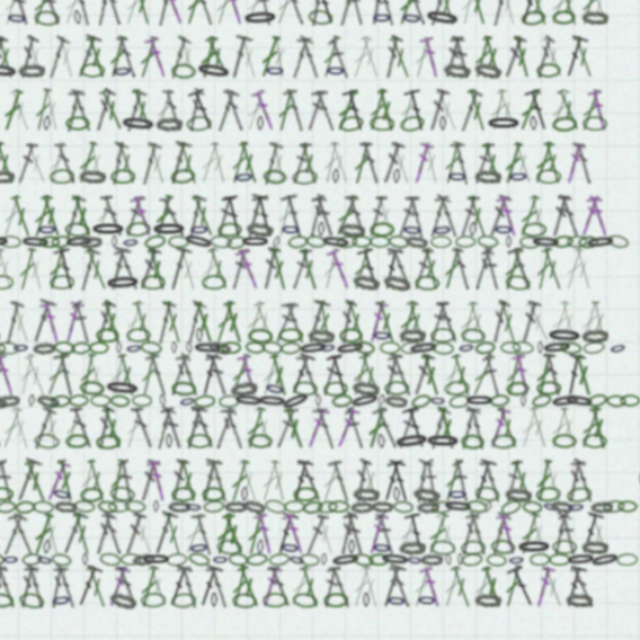chain: (418, 52, 451, 70), (215, 99, 248, 117), (290, 391, 319, 411), (391, 428, 424, 445), (26, 100, 59, 116), (148, 147, 181, 163), (134, 382, 167, 397), (204, 251, 232, 268), (352, 392, 380, 409), (381, 287, 407, 305), (17, 428, 43, 446), (138, 569, 164, 587), (257, 54, 289, 68), (135, 289, 167, 303), (527, 336, 559, 350), (565, 534, 593, 550), (462, 99, 488, 116), (354, 287, 380, 304), (473, 148, 505, 161), (122, 242, 154, 255), (176, 242, 208, 255), (419, 430, 451, 443), (500, 524, 532, 537), (342, 146, 366, 163), (396, 146, 420, 163), (246, 382, 271, 398), (408, 476, 433, 492), (326, 253, 354, 267), (561, 253, 589, 267), (306, 347, 334, 361), (339, 347, 367, 361), (404, 347, 432, 361), (530, 394, 558, 408), (542, 394, 570, 408), (335, 535, 363, 549), (544, 476, 568, 492), (58, 570, 82, 586), (485, 486, 506, 504), (435, 100, 460, 115), (260, 241, 285, 256), (354, 382, 379, 397), (504, 53, 527, 69), (490, 288, 513, 304), (301, 570, 324, 586), (27, 393, 49, 409), (99, 253, 126, 266), (523, 347, 550, 360), (249, 394, 276, 407), (435, 488, 462, 501), (379, 535, 406, 548), (544, 535, 571, 548), (315, 53, 338, 68), (207, 147, 230, 162), (193, 194, 216, 209), (153, 241, 176, 256), (112, 382, 135, 397), (436, 382, 459, 397), (72, 429, 95, 444), (139, 476, 162, 491), (463, 476, 486, 491), (517, 476, 540, 491), (234, 523, 257, 538), (477, 523, 500, 538), (87, 475, 107, 492), (180, 148, 204, 162), (342, 242, 366, 256), (18, 336, 42, 350), (315, 336, 339, 350), (558, 336, 582, 350), (490, 477, 514, 491), (396, 524, 420, 538), (226, 346, 248, 361), (60, 254, 87, 266), (513, 254, 540, 266), (213, 348, 240, 360), (270, 395, 297, 407), (72, 54, 95, 68), (301, 195, 324, 209), (99, 242, 122, 256), (276, 382, 296, 398), (406, 393, 426, 409), (169, 252, 190, 267), (580, 252, 601, 267), (257, 487, 278, 502), (276, 487, 297, 502), (208, 534, 229, 549), (558, 54, 582, 67), (58, 101, 82, 114), (31, 195, 55, 208), (112, 195, 136, 208), (463, 195, 487, 208), (396, 336, 420, 349), (355, 477, 379, 490), (558, 524, 582, 537), (463, 571, 487, 584), (544, 571, 568, 584), (194, 101, 216, 115), (532, 148, 554, 162), (559, 148, 581, 162), (275, 195, 297, 209), (235, 242, 257, 256), (505, 242, 527, 256), (410, 289, 432, 303), (262, 336, 284, 350), (451, 336, 473, 350), (194, 383, 216, 397), (302, 383, 324, 397), (329, 383, 351, 397), (127, 430, 149, 444), (478, 430, 500, 444), (19, 524, 41, 538), (424, 524, 446, 538), (451, 524, 473, 538), (32, 571, 54, 585), (194, 571, 216, 585), (248, 571, 270, 585), (513, 393, 533, 408), (562, 393, 582, 408), (24, 254, 51, 265), (255, 254, 282, 265), (454, 395, 481, 406), (167, 536, 194, 547), (112, 253, 133, 267), (491, 383, 512, 397), (74, 394, 95, 408), (451, 430, 472, 444), (113, 477, 134, 491), (113, 101, 135, 114), (518, 101, 540, 114), (100, 148, 122, 161), (370, 148, 392, 161), (86, 195, 108, 208), (140, 195, 162, 208), (518, 195, 540, 208), (370, 242, 392, 255), (32, 289, 54, 302), (86, 289, 108, 302), (167, 289, 189, 302), (221, 289, 243, 302), (154, 336, 176, 349), (289, 336, 311, 349), (424, 336, 446, 349), (383, 383, 405, 396), (518, 383, 540, 396), (208, 430, 230, 443), (262, 430, 284, 443), (532, 430, 554, 443), (559, 430, 581, 443), (32, 477, 54, 490), (194, 477, 216, 490), (302, 477, 324, 490), (532, 524, 554, 537), (167, 571, 189, 584), (275, 571, 297, 584), (329, 571, 351, 584), (87, 570, 106, 585), (242, 253, 262, 267), (440, 394, 460, 408), (354, 535, 374, 549), (532, 54, 553, 67), (401, 253, 422, 266), (127, 336, 148, 349), (343, 336, 364, 349), (39, 394, 60, 407), (100, 430, 121, 443), (221, 477, 242, 490), (530, 488, 551, 501), (159, 535, 180, 548), (398, 54, 417, 68), (141, 101, 160, 115), (249, 195, 268, 209), (425, 242, 444, 256), (128, 488, 147, 502), (310, 488, 329, 502), (209, 524, 228, 538), (290, 524, 309, 538), (87, 535, 106, 549), (228, 253, 248, 266), (340, 253, 360, 266), (386, 253, 406, 266), (465, 253, 485, 266), (89, 347, 109, 360), (166, 347, 186, 360), (397, 347, 417, 360), (496, 347, 516, 360), (559, 347, 579, 360), (107, 488, 127, 501), (152, 488, 172, 501), (222, 488, 242, 501), (455, 488, 475, 501), (577, 488, 597, 501), (130, 535, 150, 548), (189, 535, 209, 548), (260, 535, 280, 548), (280, 535, 300, 548), (451, 535, 471, 548), (48, 54, 66, 68), (399, 242, 417, 256), (383, 395, 404, 407), (372, 524, 390, 538), (385, 571, 403, 585), (87, 253, 106, 266), (297, 253, 316, 266), (313, 253, 332, 266), (532, 253, 551, 266), (259, 347, 278, 360), (274, 347, 293, 360), (356, 347, 375, 360), (463, 347, 482, 360), (336, 394, 355, 407), (476, 394, 495, 407), (28, 535, 47, 548), (61, 535, 80, 548), (244, 535, 263, 548), (71, 348, 91, 360), (353, 489, 373, 501), (412, 489, 432, 501), (566, 489, 586, 501), (582, 347, 599, 361), (200, 394, 217, 408), (73, 535, 90, 549), (297, 535, 314, 549), (372, 54, 390, 67), (277, 101, 295, 114), (331, 101, 349, 114), (439, 195, 457, 208), (493, 195, 511, 208), (75, 242, 93, 255), (210, 242, 228, 255), (291, 242, 309, 255), (480, 242, 498, 255), (372, 336, 390, 349), (439, 477, 457, 490), (412, 571, 430, 584), (40, 348, 59, 360), (426, 348, 445, 360), (539, 348, 558, 360), (139, 395, 158, 407), (214, 395, 233, 407), (236, 395, 255, 407), (38, 489, 57, 501), (55, 489, 74, 501), (71, 489, 90, 501), (323, 489, 342, 501), (505, 489, 524, 501), (307, 536, 326, 548), (473, 536, 492, 548), (90, 489, 110, 500), (191, 489, 211, 500), (241, 489, 261, 500), (371, 489, 391, 500), (415, 536, 435, 547), (503, 254, 521, 266), (555, 254, 573, 266), (29, 348, 47, 360), (105, 348, 123, 360), (291, 348, 309, 360), (87, 395, 105, 407), (580, 395, 598, 407), (391, 489, 409, 501), (425, 489, 443, 501), (42, 254, 61, 265), (191, 254, 210, 265), (424, 254, 443, 265), (138, 489, 157, 500), (294, 489, 313, 500), (333, 489, 352, 500), (529, 536, 548, 547), (589, 536, 608, 547), (325, 347, 341, 360), (448, 347, 464, 360), (523, 488, 539, 501), (77, 254, 95, 265), (354, 254, 372, 265), (370, 254, 388, 265), (446, 254, 464, 265), (545, 254, 563, 265), (121, 348, 139, 359), (238, 348, 256, 359), (379, 348, 397, 359), (486, 348, 504, 359), (103, 395, 121, 406), (122, 395, 140, 406), (159, 395, 177, 406), (592, 395, 610, 406), (590, 489, 608, 500), (149, 536, 167, 547), (369, 536, 387, 547), (512, 536, 530, 547), (150, 254, 166, 266), (153, 348, 169, 360), (206, 489, 222, 501), (402, 536, 418, 548), (546, 489, 561, 501), (493, 536, 508, 548), (53, 348, 68, 359), (423, 395, 438, 406), (44, 536, 59, 547), (230, 536, 245, 547), (107, 54, 115, 67), (283, 254, 291, 266), (471, 489, 479, 501), (80, 148, 87, 161), (512, 148, 519, 161), (458, 242, 465, 255), (377, 430, 384, 443), (80, 524, 87, 537), (270, 148, 276, 161), (432, 148, 438, 161), (337, 195, 343, 208), (391, 195, 397, 208), (324, 242, 330, 255), (216, 336, 222, 349), (189, 430, 195, 443), (256, 477, 262, 490), (391, 477, 397, 490), (270, 524, 276, 537), (351, 524, 357, 537), (229, 571, 235, 584), (364, 571, 370, 584), (183, 395, 190, 406), (377, 395, 384, 406), (207, 348, 213, 359), (67, 395, 73, 406), (35, 489, 41, 500), (437, 536, 443, 547), (141, 254, 146, 265), (491, 254, 496, 265), (145, 348, 150, 359), (194, 348, 199, 359), (519, 348, 524, 359), (322, 395, 327, 406), (504, 395, 509, 406), (178, 489, 183, 500), (115, 536, 120, 547), (327, 536, 332, 547), (448, 536, 453, 547)
double: (491, 545, 521, 586), (208, 122, 237, 163), (295, 357, 323, 398), (52, 451, 80, 492), (93, 498, 121, 539), (106, 545, 134, 586), (39, 499, 67, 539), (106, 75, 133, 116), (492, 263, 519, 304), (66, 310, 93, 351), (398, 404, 425, 445), (174, 498, 201, 539), (187, 545, 214, 586), (214, 545, 241, 586), (457, 358, 484, 398), (66, 405, 93, 445), (371, 405, 398, 445), (318, 28, 344, 69), (499, 28, 525, 69), (539, 75, 565, 116), (507, 122, 533, 163), (458, 451, 484, 492), (553, 498, 579, 539), (377, 545, 403, 586), (222, 76, 249, 115), (128, 123, 155, 162), (336, 217, 363, 256), (506, 311, 533, 350), (561, 29, 587, 69), (13, 123, 39, 163), (229, 123, 255, 163), (426, 123, 452, 163), (445, 123, 471, 163), (499, 123, 525, 163), (21, 217, 47, 257), (115, 264, 141, 304), (142, 264, 168, 304), (358, 264, 384, 304), (264, 311, 290, 351), (310, 311, 336, 351), (61, 358, 87, 398), (358, 358, 384, 398), (61, 452, 87, 492), (377, 452, 403, 492), (48, 499, 74, 539), (426, 499, 452, 539), (250, 546, 276, 586), (534, 123, 560, 162), (75, 29, 100, 69), (256, 29, 281, 69), (283, 29, 308, 69), (337, 29, 362, 69), (418, 29, 443, 69), (507, 29, 532, 69), (80, 76, 105, 116), (188, 76, 213, 116), (242, 76, 267, 116), (296, 76, 321, 116), (385, 76, 410, 116), (48, 123, 73, 163), (102, 123, 127, 163), (148, 123, 173, 163), (318, 123, 343, 163), (337, 123, 362, 163), (345, 123, 370, 163), (34, 170, 59, 210), (188, 170, 213, 210), (94, 217, 119, 257), (256, 217, 281, 257), (291, 217, 316, 257), (318, 217, 343, 257), (418, 217, 443, 257), (472, 217, 497, 257), (499, 217, 524, 257), (107, 264, 132, 304), (188, 264, 213, 304), (385, 264, 410, 304), (520, 264, 545, 304), (291, 311, 316, 351), (304, 358, 329, 398), (331, 358, 356, 398), (385, 358, 410, 398), (40, 405, 65, 445), (202, 405, 227, 445), (237, 405, 262, 445), (291, 405, 316, 445), (385, 452, 410, 492), (493, 452, 518, 492), (237, 499, 262, 539), (283, 499, 308, 539), (418, 499, 443, 539), (34, 546, 59, 586), (331, 546, 356, 586), (439, 546, 464, 586), (539, 546, 564, 586), (183, 29, 208, 68), (264, 123, 289, 162), (480, 123, 505, 162), (210, 217, 235, 256), (250, 264, 275, 303), (331, 264, 356, 303), (80, 358, 105, 397), (337, 405, 362, 444), (80, 452, 105, 491), (202, 499, 227, 538), (296, 546, 321, 585), (22, 29, 46, 69), (149, 29, 173, 69), (211, 29, 235, 69), (392, 29, 416, 69), (473, 29, 497, 69), (527, 29, 551, 69), (305, 76, 329, 116), (351, 76, 375, 116), (486, 76, 510, 116), (22, 123, 46, 163), (41, 123, 65, 163), (257, 123, 281, 163), (400, 123, 424, 163), (554, 123, 578, 163), (162, 170, 186, 210), (197, 170, 221, 210), (270, 170, 294, 210), (378, 170, 402, 210), (386, 170, 410, 210), (467, 170, 491, 210), (49, 217, 73, 257), (103, 217, 127, 257), (238, 217, 262, 257), (265, 217, 289, 257), (427, 217, 451, 257), (454, 217, 478, 257), (89, 264, 113, 304), (135, 264, 159, 304), (162, 264, 186, 304), (149, 311, 173, 351), (211, 311, 235, 351), (392, 311, 416, 351), (454, 311, 478, 351), (527, 311, 551, 351), (89, 358, 113, 398), (197, 358, 221, 398), (216, 358, 240, 398), (224, 358, 248, 398), (405, 358, 429, 398), (440, 358, 464, 398), (22, 405, 46, 445), (130, 405, 154, 445), (184, 405, 208, 445), (319, 405, 343, 445), (419, 405, 443, 445), (216, 452, 240, 492), (251, 452, 275, 492), (297, 452, 321, 492), (324, 452, 348, 492), (548, 452, 572, 492), (68, 499, 92, 539), (149, 499, 173, 539), (400, 499, 424, 539), (473, 499, 497, 539), (500, 499, 524, 539), (89, 546, 113, 586), (116, 546, 140, 586), (224, 546, 248, 586), (305, 546, 329, 586), (467, 546, 491, 586), (183, 218, 208, 256), (95, 29, 119, 68), (521, 76, 545, 115), (548, 76, 572, 115), (527, 123, 551, 162), (62, 170, 86, 209), (224, 264, 248, 303), (243, 358, 267, 397), (311, 405, 335, 444), (481, 405, 505, 444), (554, 405, 578, 444), (157, 499, 181, 538), (392, 499, 416, 538), (170, 546, 194, 585), (521, 546, 545, 585), (14, 29, 37, 69), (49, 29, 72, 69), (68, 29, 91, 69), (176, 29, 199, 69), (230, 29, 253, 69), (427, 29, 450, 69), (535, 29, 558, 69), (27, 76, 50, 116), (35, 76, 58, 116), (62, 76, 85, 116), (116, 76, 139, 116), (162, 76, 185, 116), (95, 123, 118, 163), (292, 123, 315, 163), (419, 123, 442, 163), (454, 123, 477, 163), (170, 170, 193, 210), (305, 170, 328, 210), (486, 170, 509, 210), (68, 217, 91, 257), (203, 217, 226, 257), (373, 217, 396, 257), (508, 217, 531, 257), (35, 264, 58, 304), (170, 264, 193, 304), (305, 264, 328, 304), (378, 264, 401, 304), (486, 264, 509, 304), (540, 264, 563, 304), (41, 311, 64, 351), (130, 311, 153, 351), (157, 311, 180, 351), (176, 311, 199, 351), (184, 311, 207, 351), (203, 311, 226, 351), (238, 311, 261, 351), (400, 311, 423, 351), (116, 358, 139, 398), (170, 358, 193, 398), (413, 358, 436, 398), (540, 358, 563, 398), (49, 405, 72, 445), (176, 405, 199, 445), (257, 405, 280, 445), (265, 405, 288, 445), (365, 405, 388, 445), (446, 405, 469, 445), (527, 405, 550, 445), (224, 452, 247, 492), (243, 452, 266, 492), (270, 452, 293, 492), (332, 452, 355, 492), (467, 452, 490, 492), (14, 499, 37, 539), (211, 499, 234, 539), (230, 499, 253, 539), (346, 499, 369, 539), (454, 499, 477, 539), (405, 546, 428, 586), (432, 546, 455, 586), (459, 546, 482, 586), (238, 29, 261, 68), (170, 76, 193, 115), (270, 76, 293, 115), (359, 76, 382, 115), (122, 123, 145, 162), (157, 123, 180, 162), (108, 170, 131, 209), (143, 170, 166, 209), (216, 170, 239, 209), (332, 170, 355, 209), (513, 170, 536, 209), (41, 217, 64, 256), (76, 217, 99, 256), (157, 217, 180, 256), (554, 217, 577, 256), (562, 217, 585, 256), (14, 311, 37, 350), (49, 311, 72, 350), (230, 311, 253, 350), (257, 311, 280, 350), (35, 358, 58, 397), (473, 405, 496, 444), (122, 499, 145, 538), (292, 499, 315, 538), (562, 499, 585, 538), (135, 546, 158, 585), (42, 29, 64, 69), (104, 29, 126, 69), (123, 29, 145, 69), (374, 29, 396, 69), (252, 76, 274, 116), (406, 76, 428, 116), (433, 76, 455, 116), (441, 76, 463, 116), (468, 76, 490, 116), (374, 123, 396, 163), (352, 170, 374, 210), (528, 217, 550, 257), (55, 264, 77, 304), (198, 264, 220, 304), (217, 264, 239, 304), (447, 311, 469, 351), (482, 311, 504, 351), (501, 311, 523, 351), (536, 311, 558, 351), (144, 358, 166, 398), (271, 358, 293, 398), (279, 358, 301, 398), (549, 358, 571, 398), (15, 405, 37, 445), (150, 405, 172, 445), (428, 405, 450, 445), (163, 452, 185, 492), (198, 452, 220, 492), (360, 452, 382, 492), (522, 452, 544, 492), (23, 499, 45, 539), (104, 499, 126, 539), (185, 499, 207, 539), (509, 499, 531, 539), (528, 499, 550, 539), (63, 546, 85, 586), (163, 546, 185, 586), (198, 546, 220, 586), (360, 546, 382, 586), (332, 77, 355, 115), (284, 312, 307, 350), (230, 406, 253, 444), (311, 500, 334, 538), (548, 547, 571, 585), (204, 29, 226, 68), (455, 29, 477, 68), (55, 76, 77, 115), (325, 76, 347, 115), (177, 123, 199, 162), (366, 123, 388, 162), (252, 170, 274, 209), (495, 170, 517, 209), (482, 217, 504, 256), (352, 264, 374, 303), (23, 311, 45, 350), (123, 311, 145, 350), (347, 311, 369, 350), (374, 311, 396, 350), (190, 358, 212, 397), (285, 405, 307, 444), (501, 405, 523, 444), (509, 405, 531, 444), (28, 452, 50, 491), (117, 452, 139, 491), (306, 452, 328, 491), (433, 452, 455, 491), (320, 499, 342, 538), (271, 546, 293, 585), (279, 546, 301, 585), (352, 546, 374, 585), (414, 546, 436, 585), (312, 29, 333, 69), (217, 76, 238, 116), (285, 123, 306, 163), (136, 170, 157, 210), (441, 170, 462, 210), (401, 217, 422, 257), (63, 264, 84, 304), (279, 264, 300, 304), (455, 405, 476, 445), (563, 405, 584, 445), (406, 452, 427, 492), (258, 499, 279, 539), (158, 29, 179, 68), (293, 29, 314, 68), (401, 29, 422, 68), (482, 29, 503, 68), (555, 29, 576, 68), (136, 76, 157, 115), (198, 76, 219, 115), (379, 76, 400, 115), (414, 76, 435, 115), (460, 76, 481, 115), (495, 76, 516, 115), (312, 123, 333, 162), (393, 123, 414, 162), (474, 123, 495, 162), (563, 123, 584, 162), (55, 170, 76, 209), (90, 170, 111, 209), (117, 170, 138, 209), (244, 170, 265, 209), (279, 170, 300, 209), (406, 170, 427, 209), (433, 170, 454, 209), (522, 170, 543, 209), (541, 170, 562, 209), (131, 217, 152, 256), (177, 217, 198, 256), (285, 217, 306, 256), (393, 217, 414, 256), (28, 264, 49, 303), (82, 264, 103, 303), (414, 264, 435, 303), (433, 264, 454, 303), (460, 264, 481, 303), (549, 264, 570, 303), (77, 311, 98, 350), (96, 311, 117, 350), (366, 311, 387, 350), (474, 311, 495, 350), (555, 311, 576, 350), (28, 358, 49, 397), (252, 358, 273, 397), (352, 358, 373, 397), (433, 358, 454, 397), (104, 405, 125, 444), (158, 405, 179, 444), (212, 405, 233, 444), (347, 405, 368, 444), (393, 405, 414, 444), (536, 405, 557, 444), (90, 452, 111, 491), (190, 452, 211, 491), (279, 452, 300, 491), (541, 452, 562, 491), (339, 499, 360, 538), (366, 499, 387, 538), (374, 499, 395, 538), (482, 499, 503, 538), (55, 546, 76, 585), (144, 546, 165, 585), (244, 546, 265, 585), (387, 546, 408, 585), (487, 546, 508, 585), (514, 546, 535, 585), (132, 29, 152, 68), (348, 29, 368, 68), (448, 29, 468, 68), (91, 76, 111, 115), (145, 76, 165, 115), (515, 76, 535, 115), (70, 123, 90, 162), (78, 123, 98, 162), (240, 123, 260, 162), (83, 170, 103, 209), (226, 170, 246, 209), (299, 170, 319, 209), (326, 170, 346, 209), (415, 170, 435, 209), (461, 170, 481, 209), (124, 217, 144, 256), (151, 217, 171, 256), (313, 217, 333, 256), (348, 217, 368, 256), (448, 217, 468, 256), (537, 217, 557, 256), (272, 264, 292, 303), (299, 264, 319, 303), (326, 264, 346, 303), (407, 264, 427, 303), (515, 264, 535, 303), (105, 311, 125, 350), (421, 311, 441, 350), (429, 311, 449, 350), (564, 311, 584, 350), (56, 358, 76, 397), (110, 358, 130, 397), (137, 358, 157, 397), (164, 358, 184, 397), (380, 358, 400, 397), (469, 358, 489, 397), (488, 358, 508, 397), (515, 358, 535, 397), (97, 405, 117, 444), (124, 405, 144, 444), (110, 452, 130, 491), (172, 452, 192, 491), (78, 499, 98, 538), (132, 499, 152, 538), (267, 499, 287, 538), (448, 499, 468, 538), (29, 546, 49, 585), (186, 123, 205, 162), (29, 170, 48, 209), (361, 170, 380, 209), (232, 217, 251, 256), (367, 217, 386, 256), (245, 264, 264, 303), (469, 264, 488, 303), (321, 311, 340, 350), (340, 311, 359, 350), (326, 358, 345, 397), (496, 358, 515, 397), (137, 452, 156, 491), (353, 452, 372, 491), (515, 452, 534, 491), (537, 499, 556, 538), (268, 29, 286, 68), (368, 29, 386, 68), (281, 76, 299, 115), (206, 123, 224, 162), (551, 170, 569, 209), (17, 217, 35, 256), (443, 264, 461, 303), (38, 452, 56, 491), (443, 452, 461, 491), (524, 358, 541, 397), (146, 452, 163, 491), (489, 452, 506, 491), (84, 546, 101, 585), (327, 546, 344, 585), (80, 405, 96, 444), (417, 452, 433, 491)
noise: (3, 350, 39, 365), (8, 524, 31, 547), (607, 458, 629, 480), (623, 140, 640, 159)
